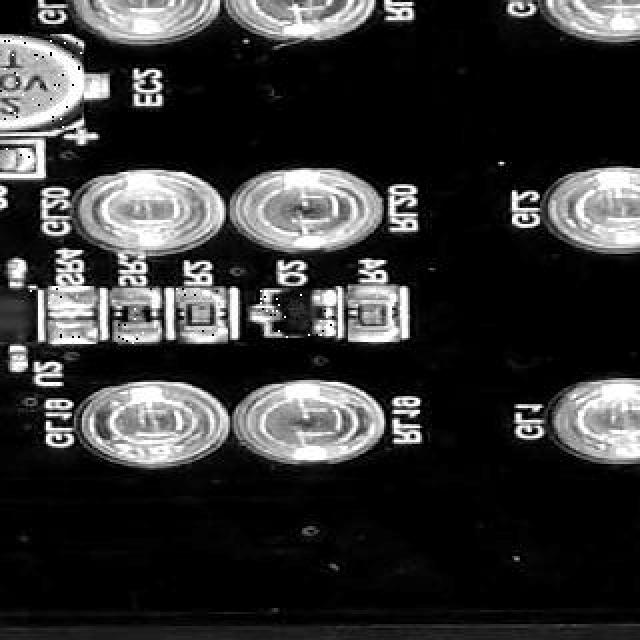Capacitor: (0, 32, 82, 128), (0, 146, 16, 166)
IC: (0, 286, 36, 342)
Mosfet: (256, 286, 336, 336)
Register: (52, 302, 96, 332), (184, 298, 216, 326), (360, 298, 388, 326), (122, 299, 150, 327)
Soldering: (48, 284, 94, 306), (348, 282, 398, 300), (346, 323, 398, 339), (116, 322, 156, 342), (112, 284, 162, 300), (48, 325, 96, 341), (179, 326, 227, 340), (176, 286, 228, 298), (14, 146, 34, 170)
